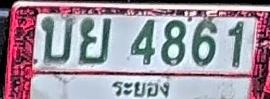1: (228, 20, 243, 66)
4: (130, 18, 154, 64)
6: (192, 18, 216, 66)
8: (161, 20, 186, 64)
A26: (41, 15, 75, 62)
A34: (78, 18, 111, 64)
RYG: (107, 75, 177, 99)
